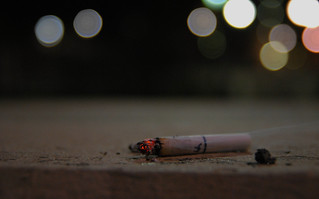cigarette: (125, 131, 255, 159)
